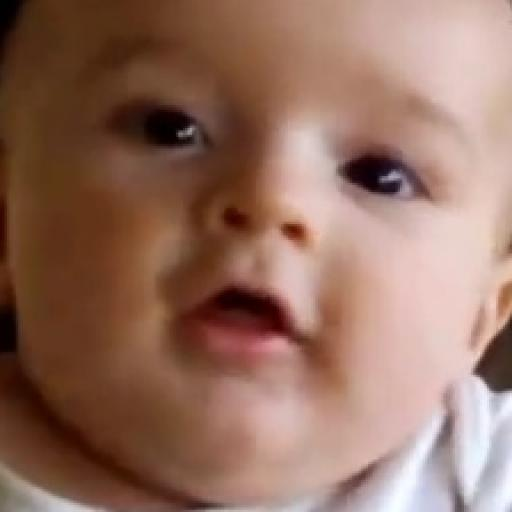Autism: (13, 0, 512, 509)
